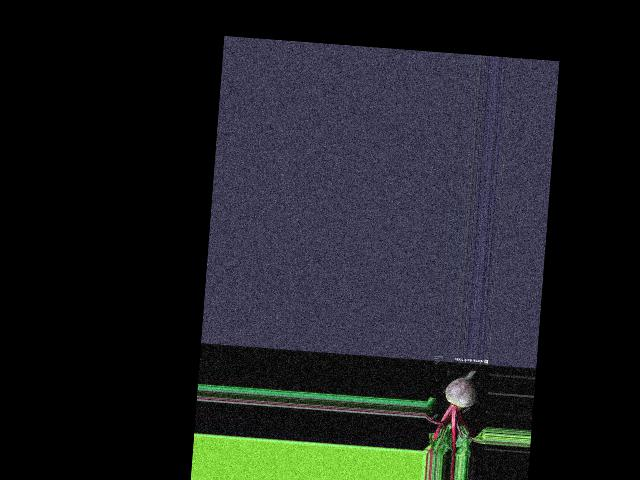beet: (422, 367, 489, 458)
